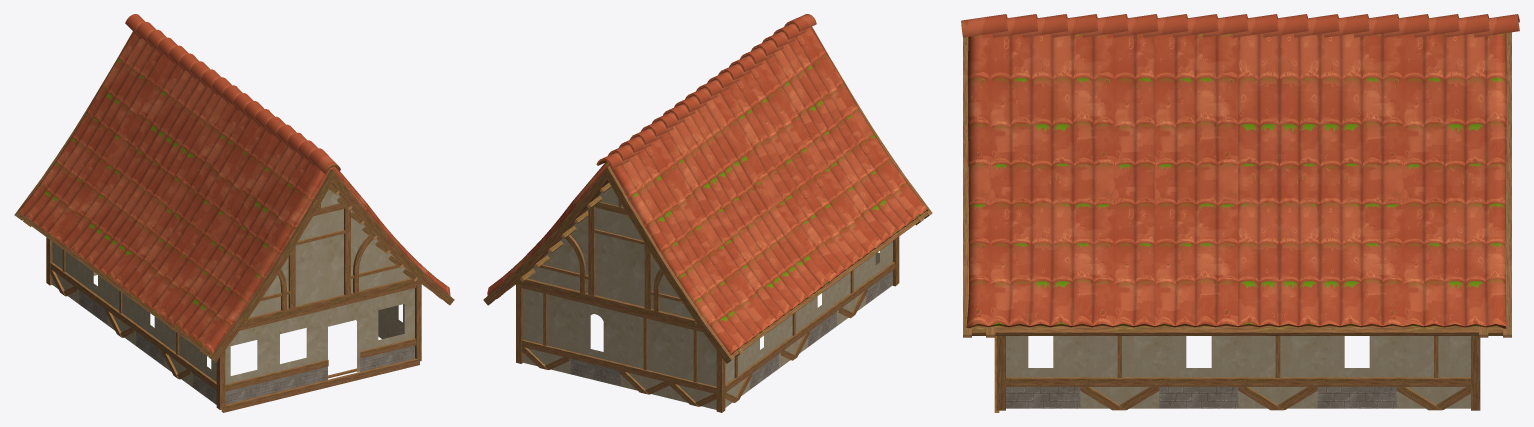
Rendered from shop_general_out.gltf.
The picture shows the model from 3 angles, left to right: view 1: azimuth 30°, elevation 25°; view 2: azimuth 150°, elevation 25°; view 3: azimuth 270°, elevation 25°; orthographic projection. The views are drawn at different scales.
Parts seen in each view (by area): view 1: shop_general_out; view 2: shop_general_out; view 3: shop_general_out.
Boxes of the visible parts, x1,y1,x2,y2 form: shop_general_out: (14, 14, 454, 412); shop_general_out: (483, 14, 932, 412); shop_general_out: (961, 14, 1519, 412).
Bounding box in the file's own units: 9.95 × 9.24 × 14.13.
Materials: 5 (5 with a texture image).
